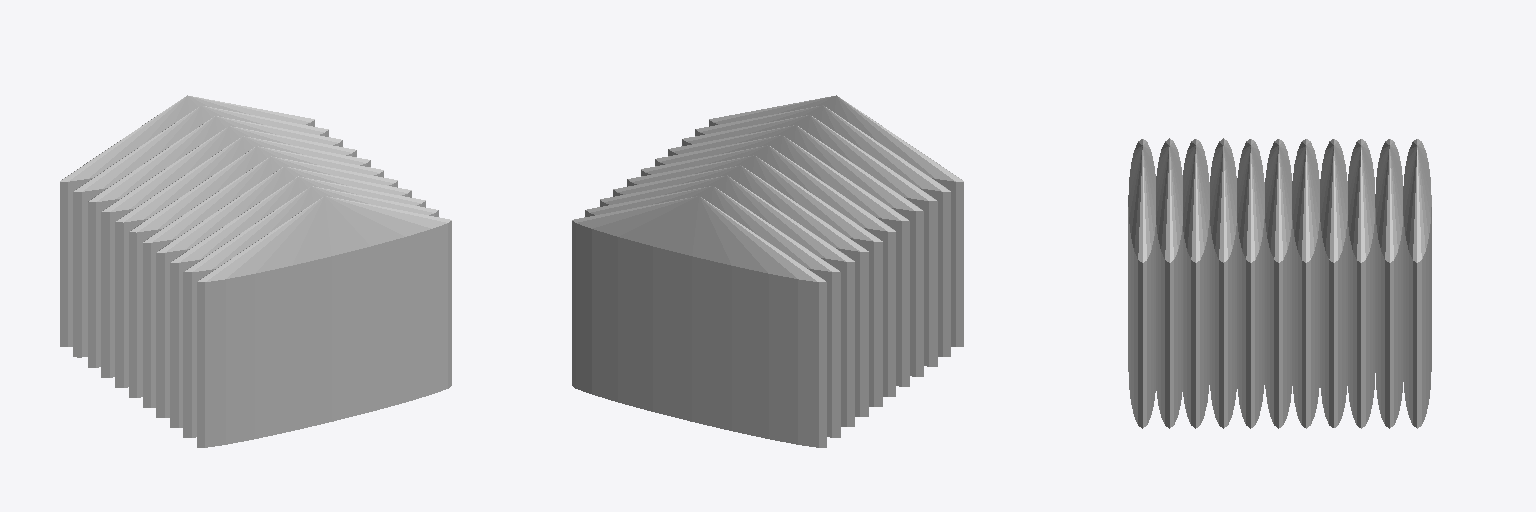
The model's file is WoodWall.obj.
3 views of the same model, side by side, from view 1: azimuth 30°, elevation 25°; view 2: azimuth 150°, elevation 25°; view 3: azimuth 270°, elevation 25° (orthographic).
Visible parts, largest first — view 1: pCylinder1 pCylinder10, pCylinder1 pCone10, pCylinder1 pCone8, pCylinder1 pCone1, pCylinder1 pCone3, pCylinder1 pCone6, pCylinder1 pCone11, pCylinder1 pCone7, pCylinder1 pCone2, pCylinder1 pCone5, pCylinder1 pCone9, pCylinder1 pCone4 (+10 smaller); view 2: pCylinder1 pCylinder11, pCylinder1 pCone11, pCylinder1 pCone7, pCylinder1 pCone2, pCylinder1 pCone5, pCylinder1 pCone4, pCylinder1 pCone8, pCylinder1 pCone6, pCylinder1 pCone1, pCylinder1 pCone3, pCylinder1 pCone10, pCylinder1 pCone9 (+10 smaller); view 3: pCylinder1 pCylinder11, pCylinder1 pCylinder5, pCylinder1 pCylinder8, pCylinder1 pCylinder2, pCylinder1 pCylinder10, pCylinder1 pCylinder6, pCylinder1 pCylinder7, pCylinder1 pCylinder3, pCylinder1 pCylinder9, pCylinder1, pCylinder1 pCylinder4, pCylinder1 pCone11 (+10 smaller).
Boxes of the visible parts, x1=… form: pCylinder1 pCylinder10: x1=197, y1=221, x2=451, y2=447; pCylinder1 pCone10: x1=198, y1=196, x2=451, y2=281; pCylinder1 pCone8: x1=74, y1=106, x2=328, y2=191; pCylinder1 pCone1: x1=130, y1=146, x2=383, y2=232; pCylinder1 pCone3: x1=157, y1=166, x2=411, y2=252; pCylinder1 pCone6: x1=102, y1=126, x2=355, y2=211; pCylinder1 pCone11: x1=60, y1=95, x2=314, y2=181; pCylinder1 pCone7: x1=88, y1=116, x2=341, y2=201; pCylinder1 pCone2: x1=143, y1=156, x2=397, y2=242; pCylinder1 pCone5: x1=116, y1=136, x2=369, y2=222; pCylinder1 pCone9: x1=185, y1=186, x2=437, y2=271; pCylinder1 pCone4: x1=171, y1=176, x2=425, y2=262; pCylinder1 pCylinder11: x1=572, y1=221, x2=826, y2=447; pCylinder1 pCone11: x1=572, y1=196, x2=825, y2=281; pCylinder1 pCone7: x1=600, y1=175, x2=854, y2=261; pCylinder1 pCone2: x1=656, y1=135, x2=908, y2=220; pCylinder1 pCone5: x1=628, y1=155, x2=882, y2=241; pCylinder1 pCone4: x1=683, y1=115, x2=936, y2=200; pCylinder1 pCone8: x1=586, y1=186, x2=839, y2=271; pCylinder1 pCone6: x1=613, y1=165, x2=868, y2=251; pCylinder1 pCone1: x1=641, y1=145, x2=895, y2=231; pCylinder1 pCone3: x1=669, y1=125, x2=922, y2=210; pCylinder1 pCone10: x1=709, y1=95, x2=963, y2=181; pCylinder1 pCone9: x1=696, y1=105, x2=950, y2=191; pCylinder1 pCylinder11: x1=1403, y1=207, x2=1431, y2=428; pCylinder1 pCylinder5: x1=1292, y1=220, x2=1319, y2=428; pCylinder1 pCylinder8: x1=1375, y1=208, x2=1402, y2=428; pCylinder1 pCylinder2: x1=1237, y1=219, x2=1264, y2=428; pCylinder1 pCylinder10: x1=1128, y1=207, x2=1155, y2=428; pCylinder1 pCylinder6: x1=1320, y1=221, x2=1347, y2=427; pCylinder1 pCylinder7: x1=1348, y1=224, x2=1374, y2=428; pCylinder1 pCylinder3: x1=1210, y1=226, x2=1236, y2=428; pCylinder1 pCylinder9: x1=1156, y1=225, x2=1182, y2=428; pCylinder1: x1=1265, y1=223, x2=1291, y2=428; pCylinder1 pCylinder4: x1=1183, y1=220, x2=1209, y2=428; pCylinder1 pCone11: x1=1403, y1=139, x2=1431, y2=262.
Bounding box in the file's own units: 0.9711 × 0.8017 × 0.9985.